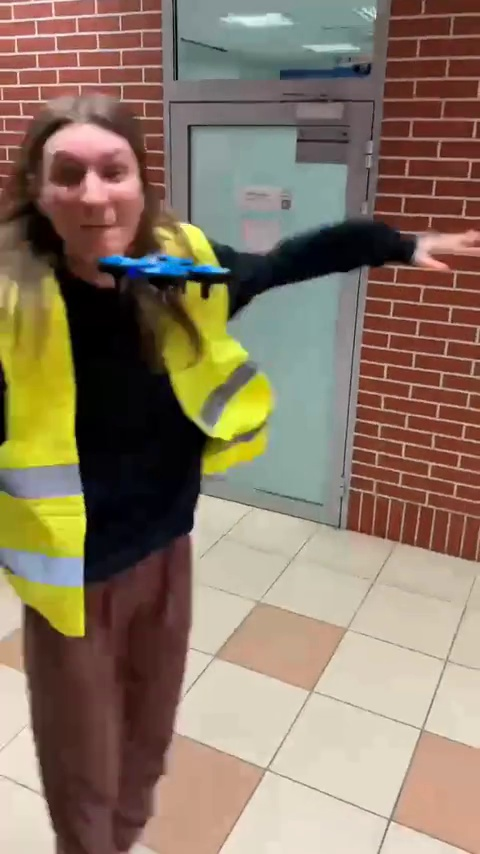drone: (101, 247, 233, 303)
vest: (0, 91, 268, 853)
